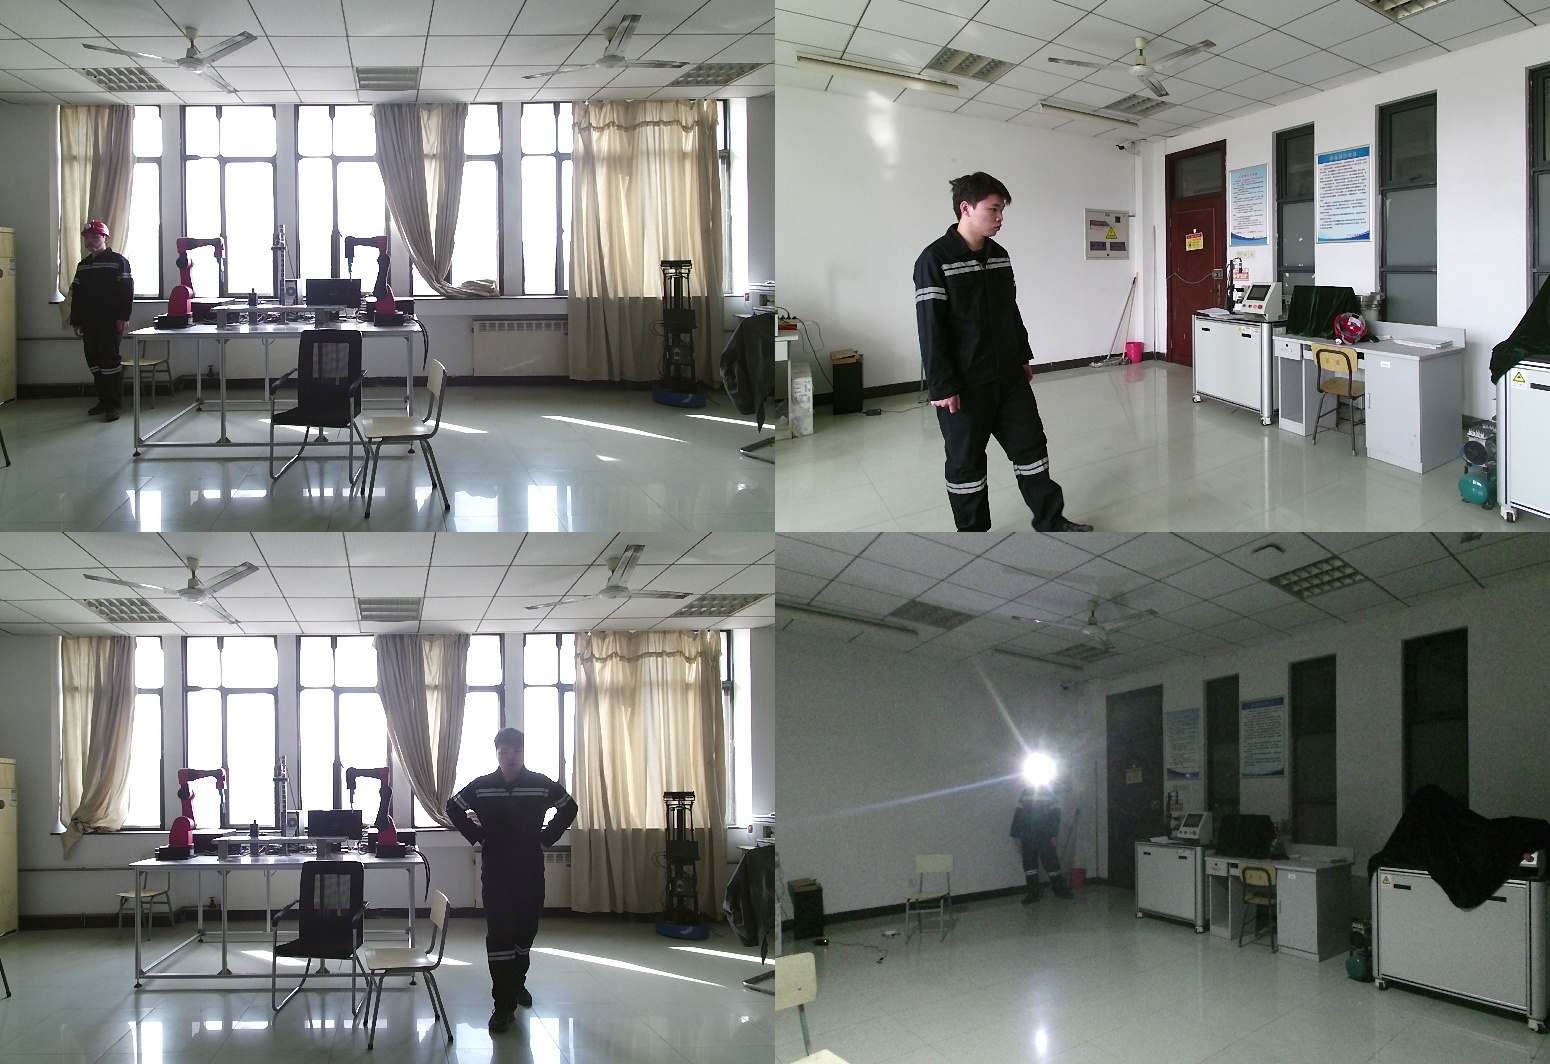person: (911, 174, 1081, 532), (448, 729, 589, 1030), (59, 222, 133, 422), (1014, 764, 1071, 907)
